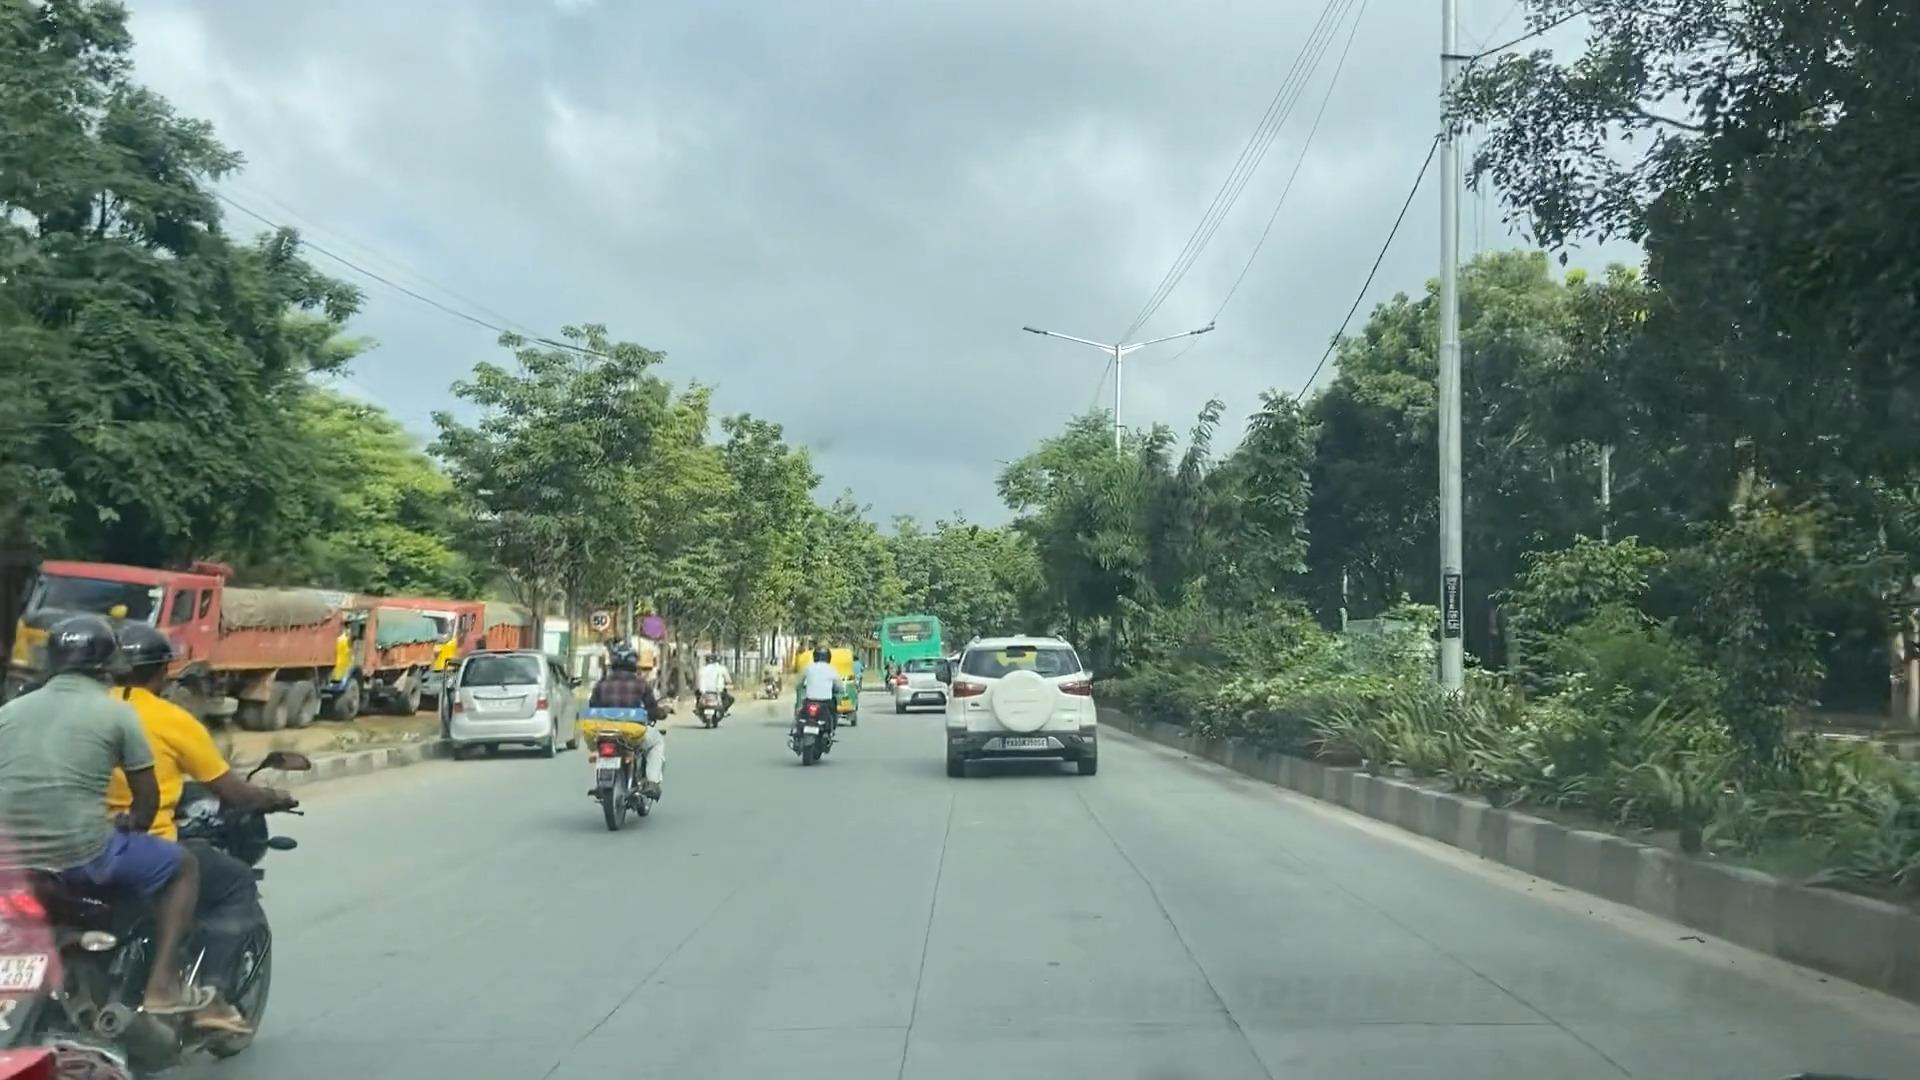LMV: (0, 597, 351, 1080), (926, 621, 1118, 799), (571, 625, 686, 828), (760, 576, 848, 825), (434, 630, 589, 762)
